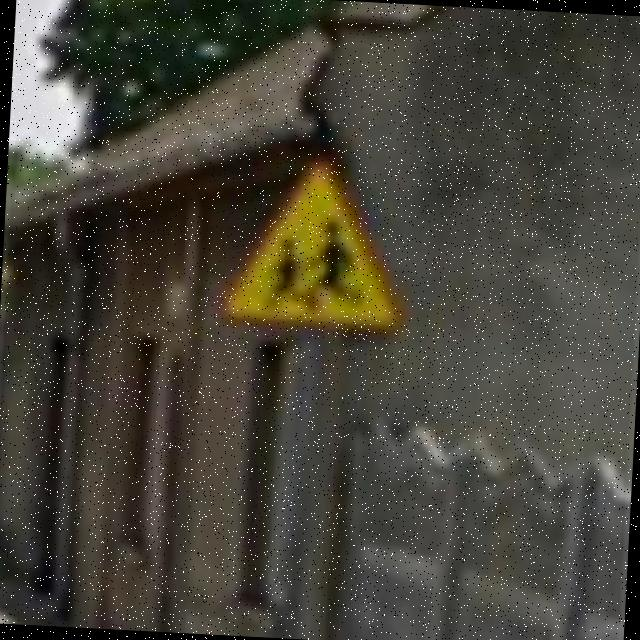Dzieci: (215, 150, 413, 340)
